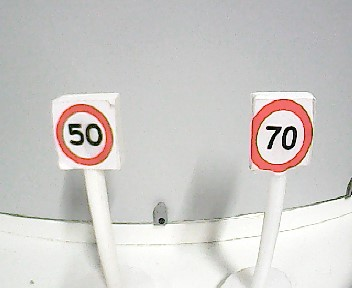50-bord: (55, 103, 114, 167)
70-bord: (252, 99, 312, 172)
